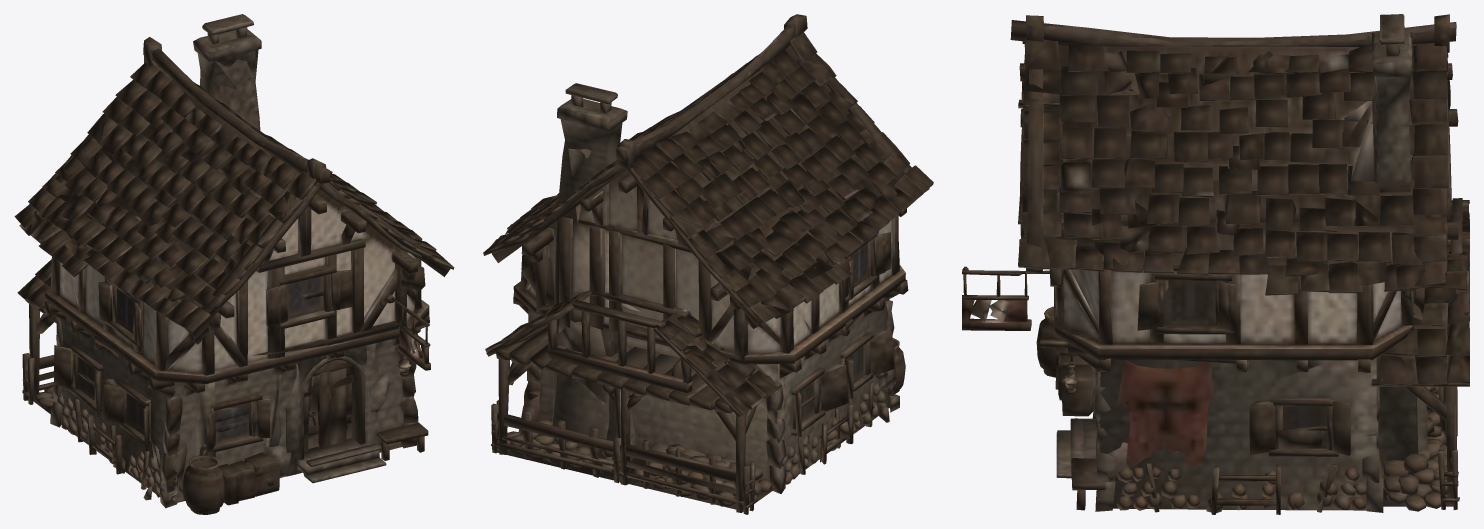
Rendered from x_tavern.glb.
The picture shows the model from 3 angles, left to right: view 1: azimuth 30°, elevation 25°; view 2: azimuth 150°, elevation 25°; view 3: azimuth 270°, elevation 25°; orthographic projection. The views are drawn at different scales.
Parts seen in each view (by area): view 1: x_tavern; view 2: x_tavern; view 3: x_tavern.
Boxes of the visible parts, bbox=[...] form: x_tavern: bbox=[14, 14, 454, 514]; x_tavern: bbox=[483, 14, 933, 514]; x_tavern: bbox=[962, 14, 1469, 514].
Bounding box in the file's own units: 1.15 × 1.29 × 1.33.
Materials: 1 (1 with a texture image).
